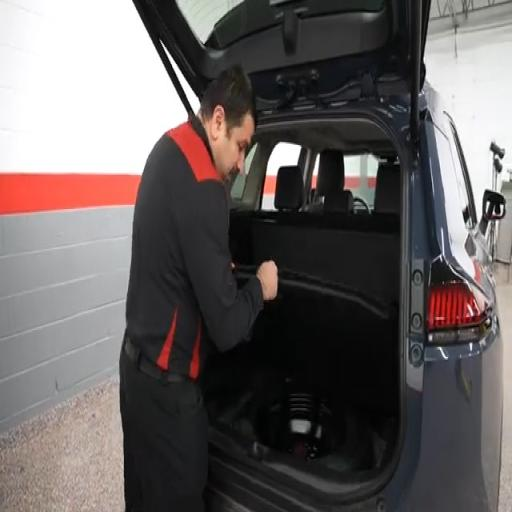bumper: (357, 332, 503, 511)
side_mirror: (480, 190, 506, 234)
taillight: (427, 282, 491, 344)
trunk: (201, 217, 400, 489)
window: (434, 126, 472, 244), (445, 113, 477, 228), (261, 143, 301, 210), (344, 154, 379, 207), (231, 143, 257, 201)
windshield: (176, 0, 385, 48)
